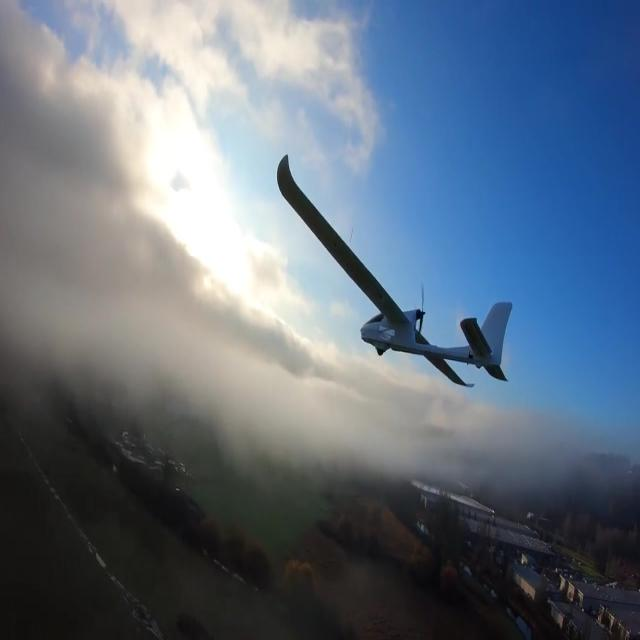iha: (270, 152, 509, 389)
